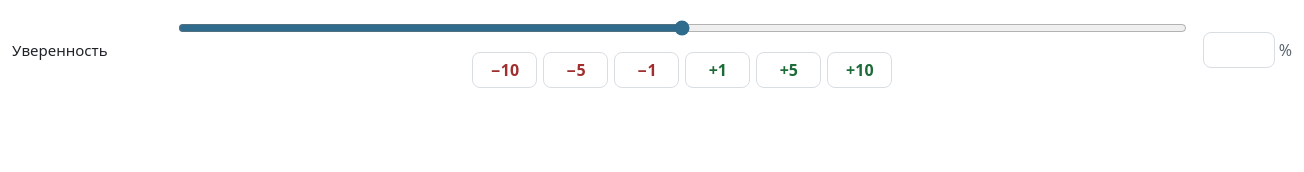
Test case: IntensityControl › typing a number clamps to range
The width and height of the screenshot is (1304, 172).
Type "150" into the number field named "Значение: Уверенность" at (1239, 50), box [1203, 32, 1275, 68]
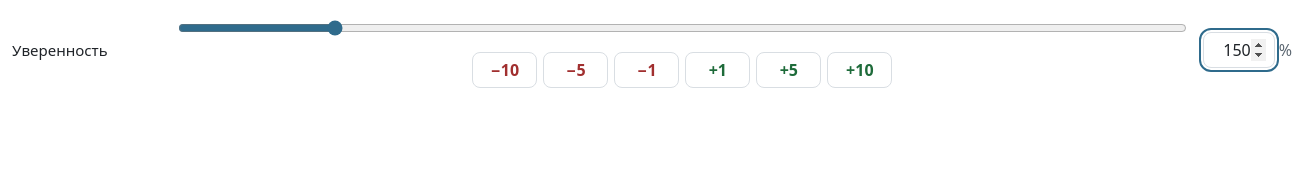
Press Tab
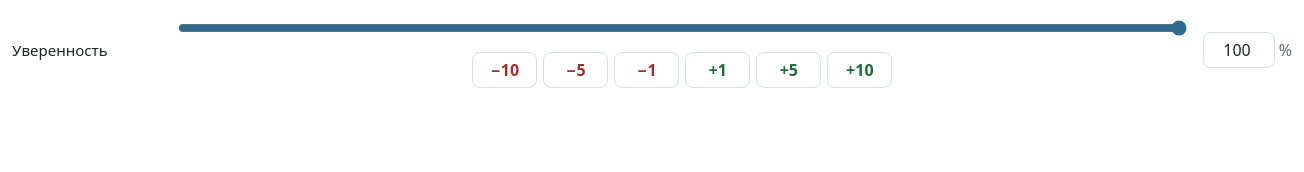
Result: the number field named "Значение: Уверенность" holds "100" at [1203, 32, 1275, 68]
